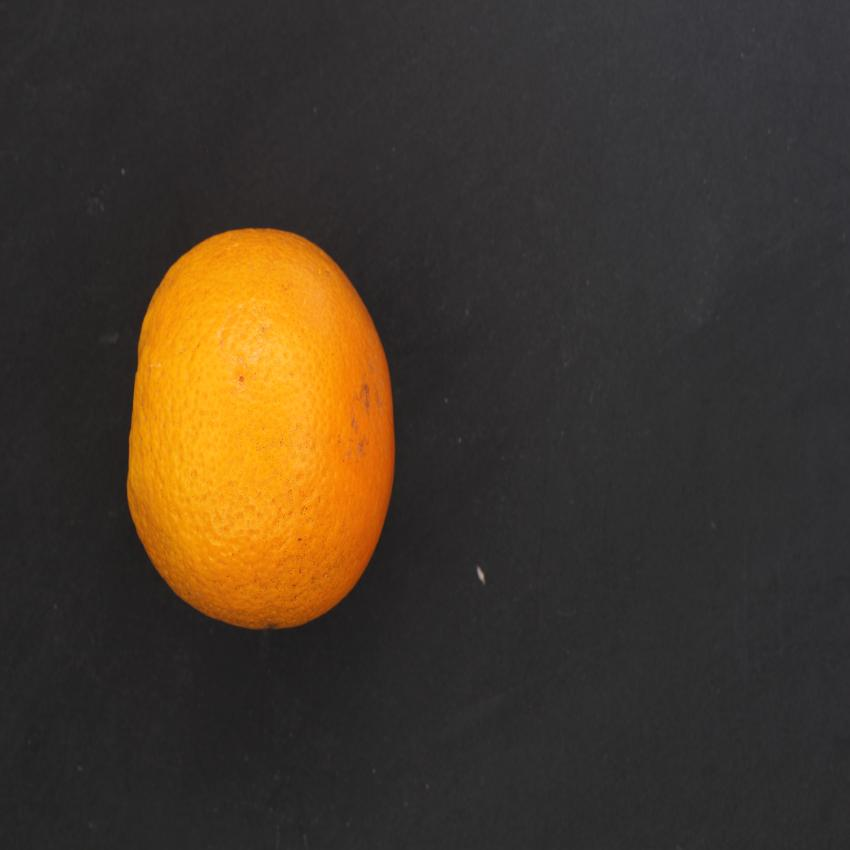Buen estado: (120, 213, 410, 649)
